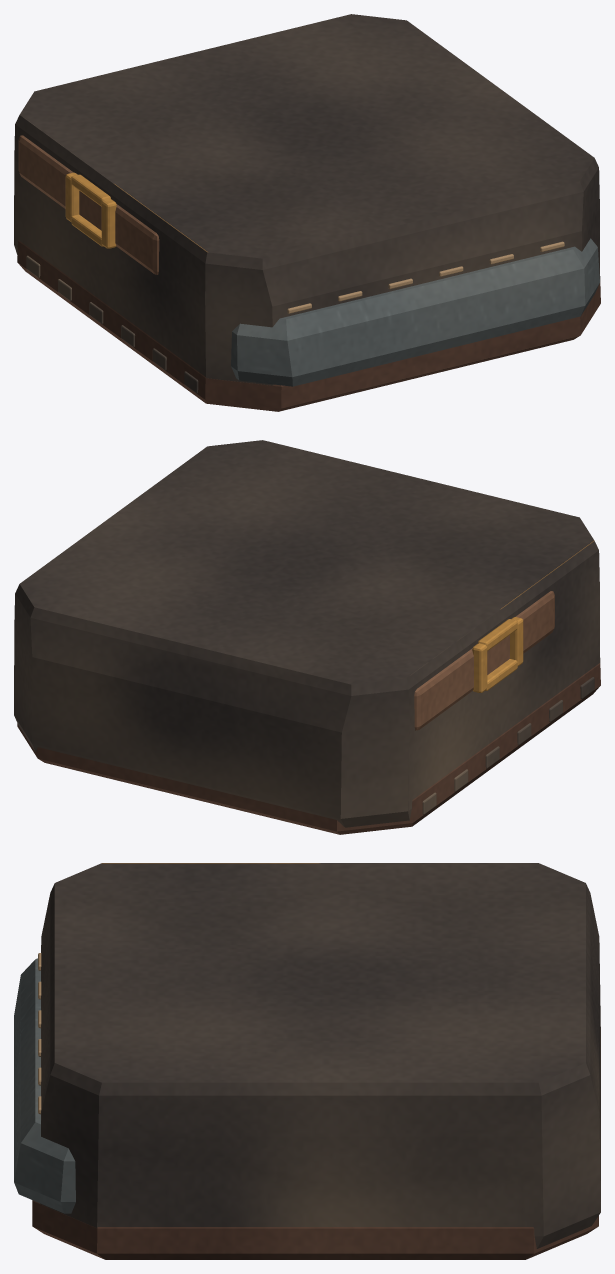
Rendered from 09_Botte_D.fbx.
The picture shows the model from 3 angles, top to bottom: view 1: azimuth 30°, elevation 25°; view 2: azimuth 150°, elevation 25°; view 3: azimuth 270°, elevation 25°; orthographic projection. The views are drawn at different scales.
Parts seen in each view (by area): view 1: 09_Botte_D; view 2: 09_Botte_D; view 3: 09_Botte_D.
Boxes of the visible parts, x1,y1,x2,y2 form: 09_Botte_D: [14, 14, 600, 411]; 09_Botte_D: [14, 440, 600, 834]; 09_Botte_D: [14, 863, 600, 1259].
Bounding box in the file's own units: 1.03 × 0.369 × 1.11.
Materials: 1 (1 with a texture image).
